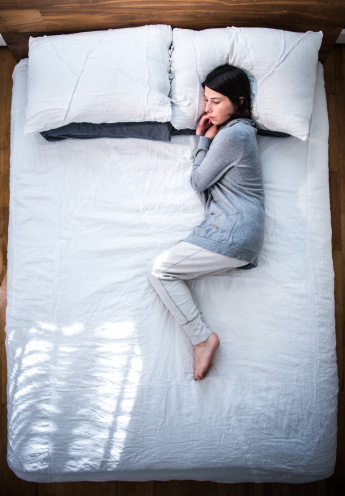deitado: (119, 55, 279, 401)
